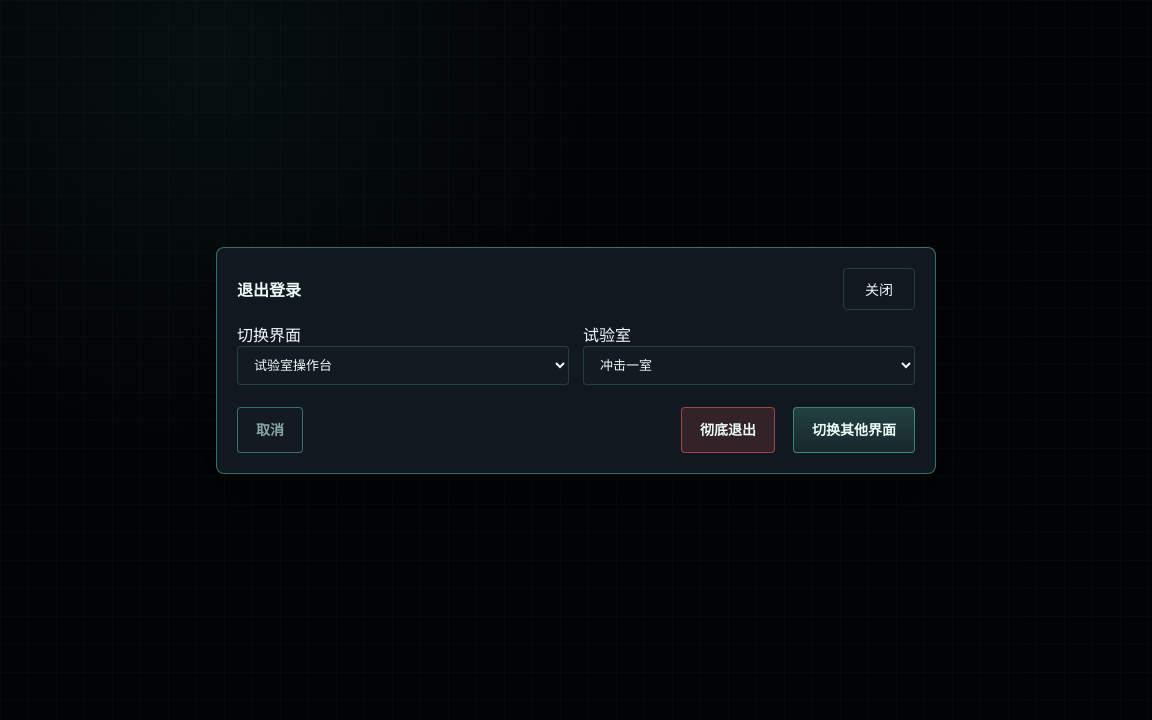
Test: ModuleExitDialog › shows a validation message when switching to the current laboratory room
This screenshot has width=1152, height=720.
Select "冲击一室" in the dropdown with test id "module-exit-lab-select" at (749, 365), box [583,346,915,384]
Click the button with test id "module-exit-switch" at (854, 430), box [793,406,915,452]
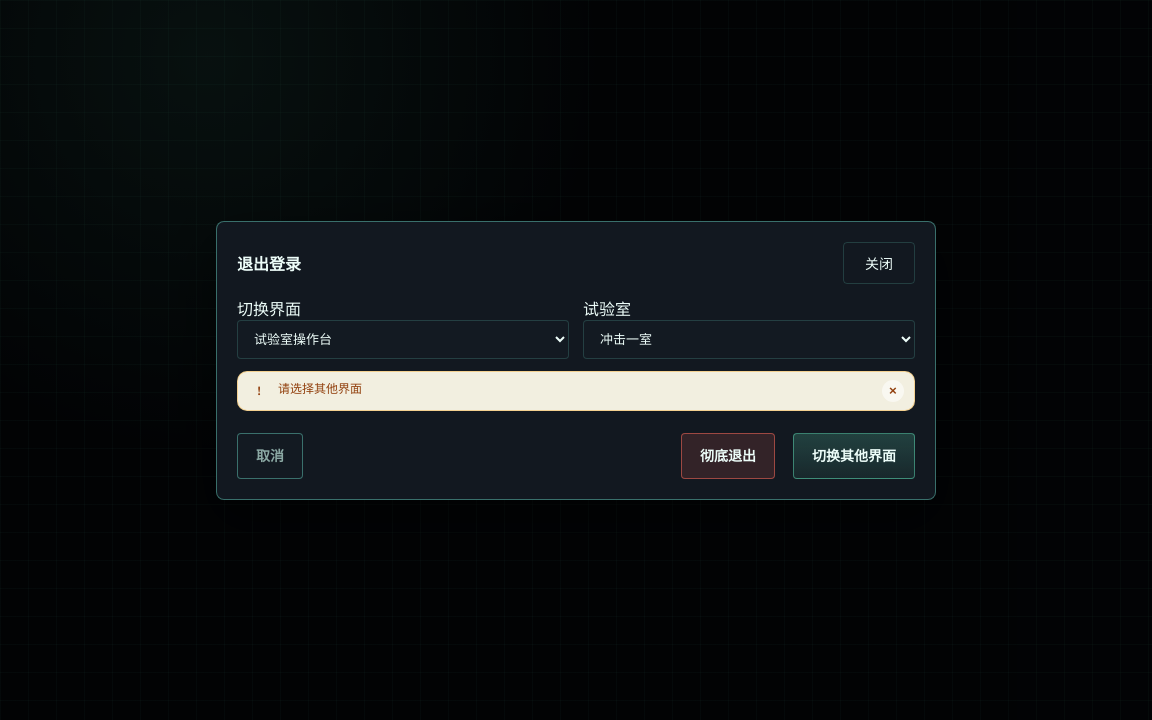
Expected: the text "请选择其他界面" is shown, [278,380,362,396]
